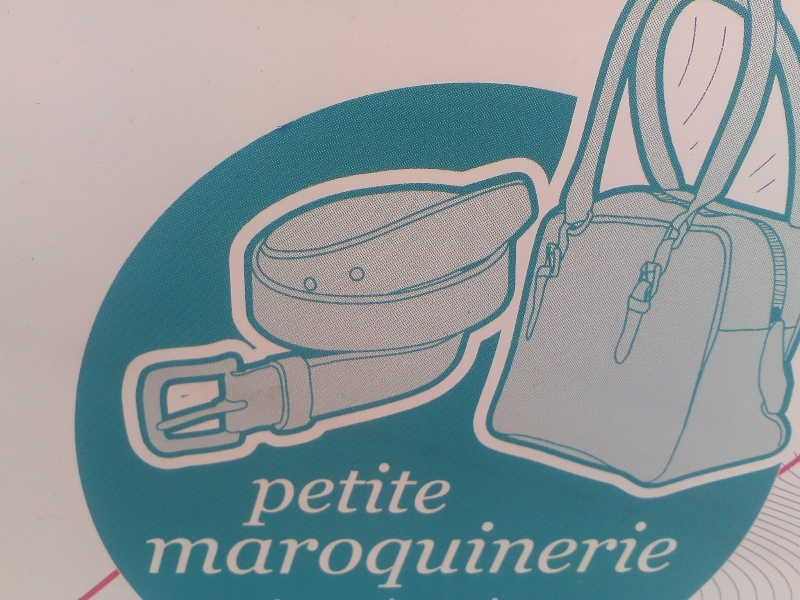text: (161, 515, 176, 591), (177, 515, 192, 591), (193, 515, 208, 591), (209, 515, 224, 591), (225, 515, 240, 591), (241, 515, 256, 591), (257, 515, 272, 591), (273, 515, 288, 591), (289, 515, 304, 591), (305, 515, 320, 591), (321, 515, 336, 591), (337, 515, 352, 591), (353, 515, 368, 591), (369, 515, 384, 591), (385, 515, 400, 591), (401, 515, 416, 591), (417, 515, 432, 591), (433, 515, 448, 591), (449, 515, 464, 591), (465, 515, 480, 591), (481, 515, 496, 591), (497, 515, 512, 591), (513, 515, 528, 591), (529, 515, 544, 591), (545, 515, 560, 591), (561, 515, 576, 591), (577, 515, 592, 591), (593, 515, 608, 591), (609, 515, 624, 591), (625, 515, 640, 591), (641, 515, 656, 591), (657, 515, 672, 591), (673, 515, 688, 591), (273, 460, 288, 527), (289, 460, 304, 527), (305, 460, 320, 527), (321, 460, 336, 527), (337, 460, 352, 527), (353, 460, 368, 527), (369, 460, 384, 527), (385, 460, 400, 527), (401, 460, 416, 527), (417, 460, 432, 527), (433, 460, 448, 527), (147, 515, 160, 591), (258, 460, 272, 527), (449, 460, 461, 527)
